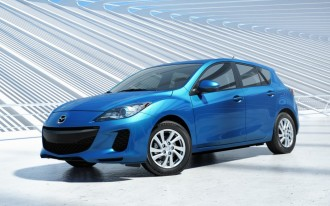Mazda3 Hatchback: (39, 58, 299, 176)
